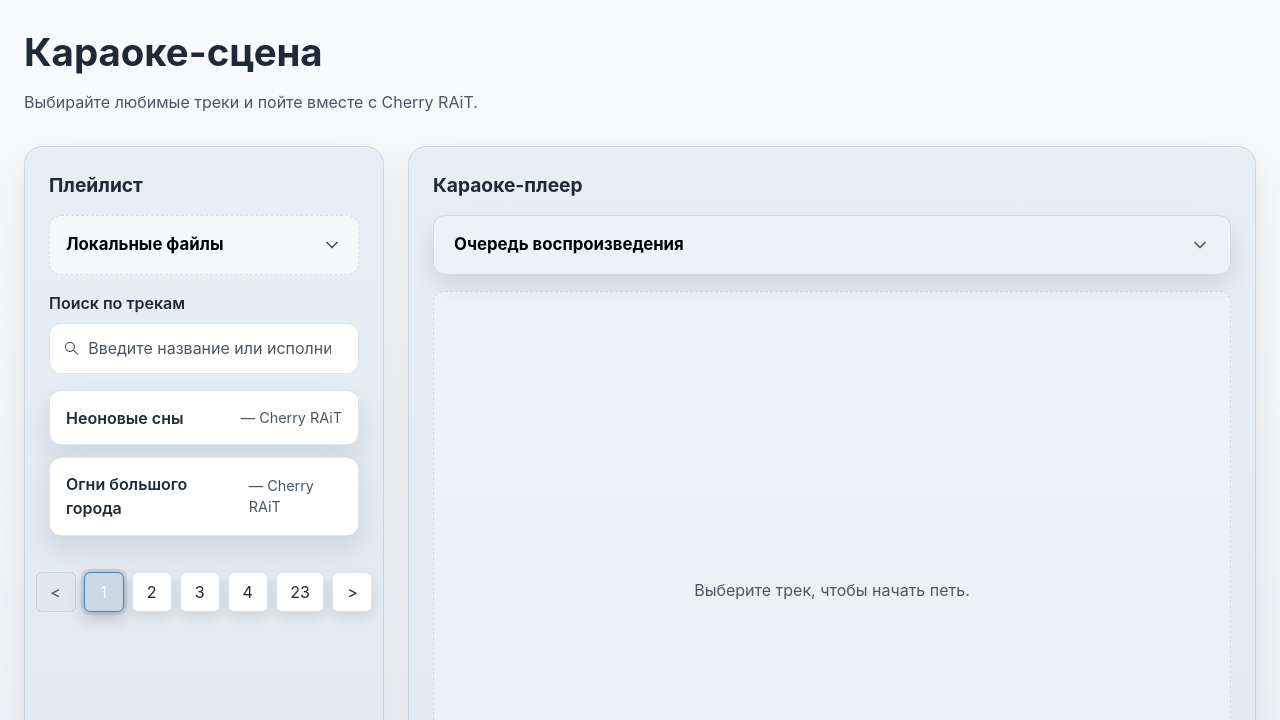
Test: фильтрует треки по названию
Type "город" into the search field labelled "Поиск по трекам". click: coordinates (217, 348)
box: [88,333,346,364]
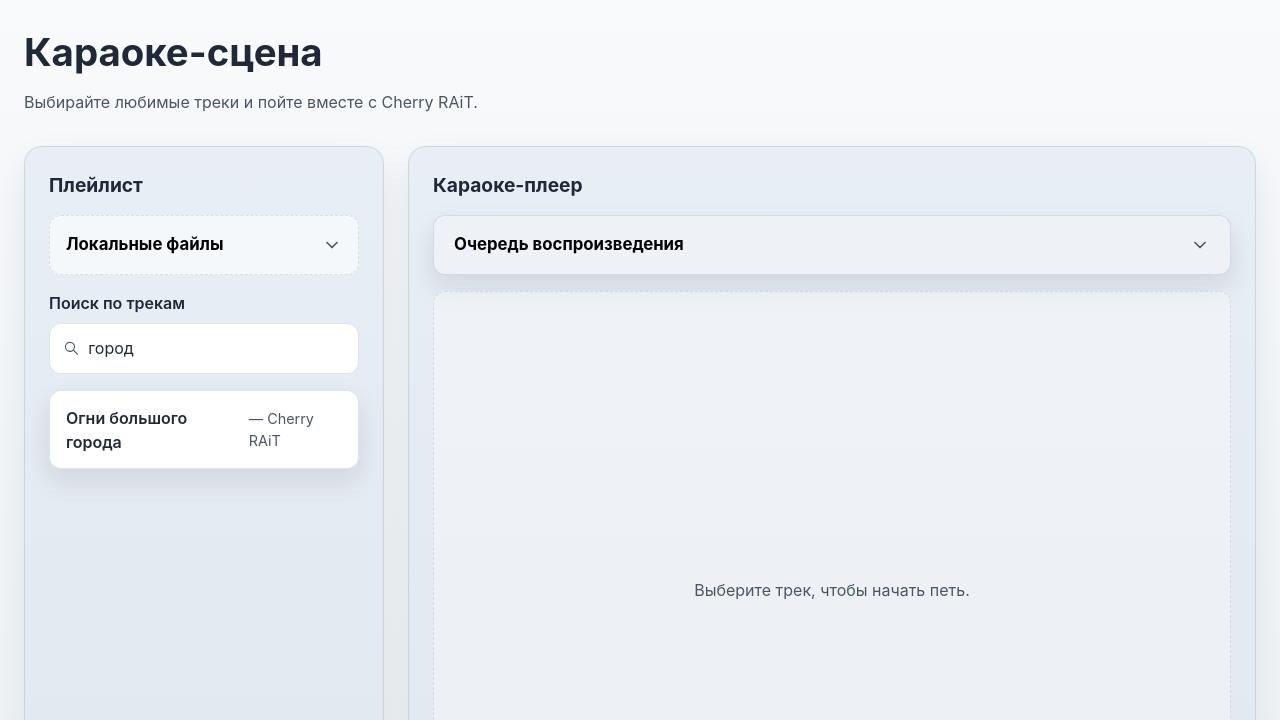
Check: the button "Огни большого города — Cherry RAiT" is shown, box [50,391,358,468]
Check: the button "Неоновые сны — Cherry RAiT" is gone
